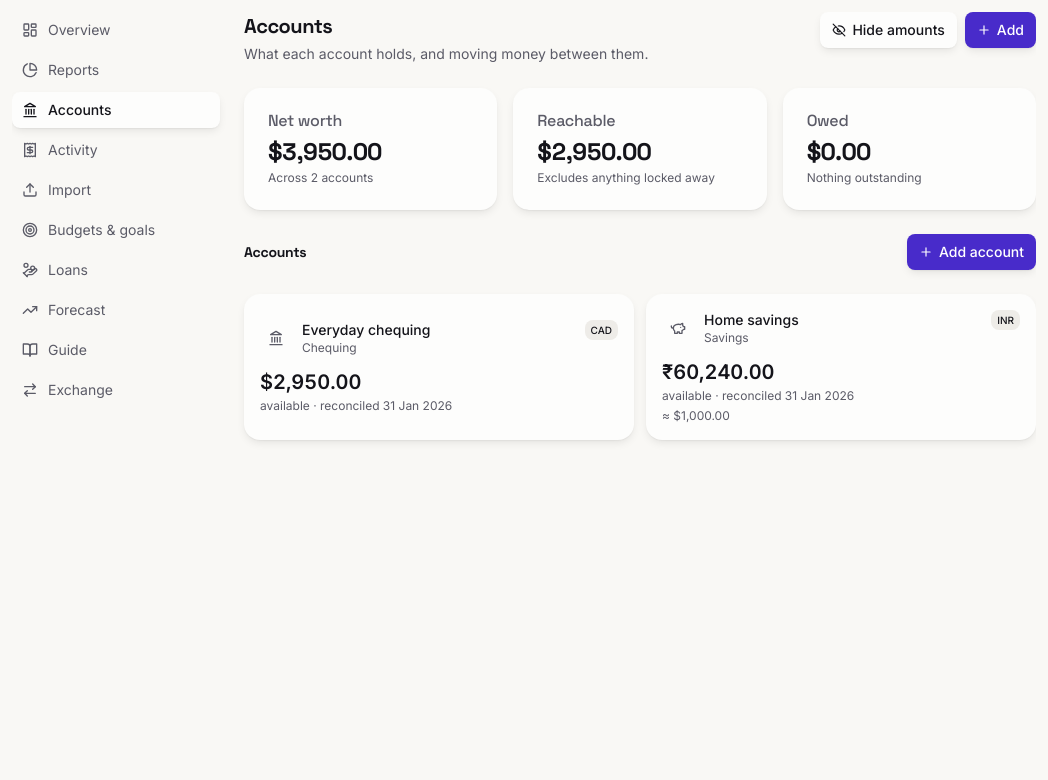
Test: the finance workspace › renders Exchange with no placeholder
Click the button "Exchange". click: (116, 390)
box: [12,372,220,408]
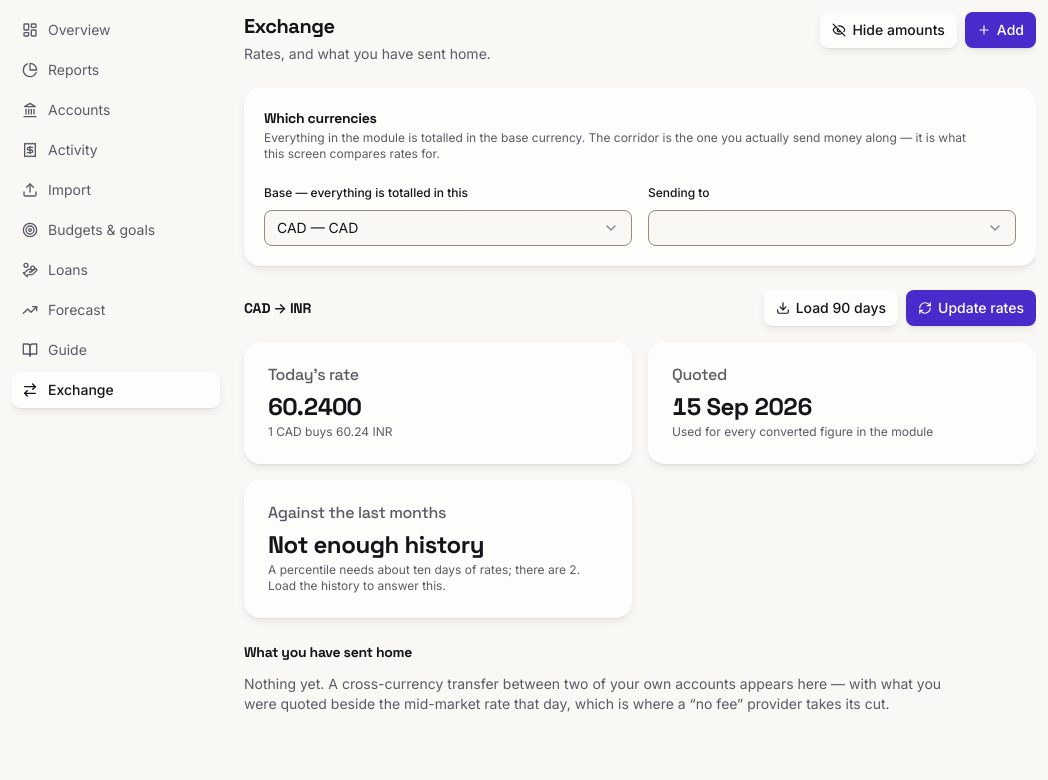
Check: the heading "Exchange" is shown, box [244,13,334,39]
